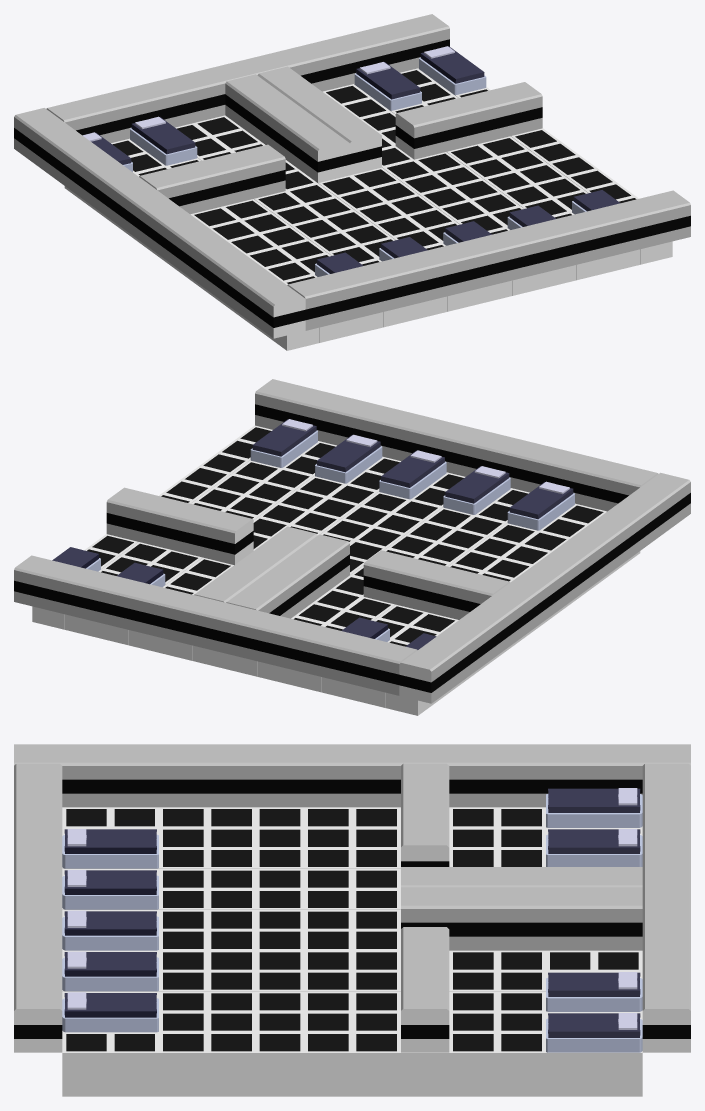
Rendered from medbayMedium.fbx.
The picture shows the model from 3 angles, top to bottom: view 1: azimuth 30°, elevation 25°; view 2: azimuth 150°, elevation 25°; view 3: azimuth 270°, elevation 25°; orthographic projection. The views are drawn at different scales.
Parts seen in each view (by area): view 1: Cube.192, Cube.186, Cube.193, Cube.208, Cube.205, Cube.207, Cube, Cube.001, Cube.013, Cube.166, Cube.191, Cube.164 (+114 smaller); view 2: Cube.187, Cube.192, Cube.007, Cube.204, Cube.188, Cube.169, Cube.203, Cube.173, Cube.167, Cube.009, Cube.165, Cube.164 (+109 smaller); view 3: Cube.007, Cube.169, Cube.203, Cube.204, Cube.188, Cube.208, Cube.206, Cube.207, Cube.205, Cube.024, Cube.027, Cube.048 (+138 smaller).
Part boxes in pixels (left/top/right/bottom): Cube.192: left=395, top=105, right=446, bottom=159; Cube.186: left=255, top=284, right=305, bottom=338; Cube.193: left=299, top=128, right=349, bottom=182; Cube.208: left=419, top=46, right=486, bottom=95; Cube.205: left=130, top=116, right=197, bottom=165; Cube.207: left=354, top=62, right=421, bottom=110; Cube: left=287, top=276, right=337, bottom=330; Cube.001: left=481, top=229, right=530, bottom=283; Cube.013: left=609, top=198, right=658, bottom=252; Cube.166: left=176, top=69, right=225, bottom=122; Cube.191: left=429, top=97, right=478, bottom=151; Cube.164: left=236, top=144, right=285, bottom=198; Cube.187: left=399, top=649, right=449, bottom=703; Cube.192: left=203, top=511, right=253, bottom=565; Cube.007: left=250, top=419, right=317, bottom=467; Cube.204: left=507, top=481, right=574, bottom=530; Cube.188: left=443, top=466, right=510, bottom=514; Cube.169: left=315, top=434, right=382, bottom=483; Cube.203: left=379, top=450, right=446, bottom=499; Cube.173: left=367, top=641, right=417, bottom=695; Cube.167: left=395, top=558, right=444, bottom=612; Cube.009: left=174, top=594, right=223, bottom=648; Cube.165: left=46, top=563, right=95, bottom=617; Cube.164: left=363, top=550, right=412, bottom=604; Cube.007: left=62, top=992, right=158, bottom=1032; Cube.169: left=62, top=951, right=158, bottom=991; Cube.203: left=62, top=910, right=158, bottom=950; Cube.204: left=62, top=829, right=158, bottom=868; Cube.188: left=62, top=870, right=158, bottom=909; Cube.208: left=546, top=1013, right=642, bottom=1052; Cube.206: left=546, top=788, right=642, bottom=827; Cube.207: left=546, top=972, right=642, bottom=1011; Cube.205: left=546, top=829, right=642, bottom=866; Cube.024: left=62, top=1032, right=110, bottom=1096; Cube.027: left=110, top=1032, right=158, bottom=1096; Cube.048: left=207, top=1032, right=255, bottom=1096.
Size of the model in its own units: 2602 by 400 by 2800.
